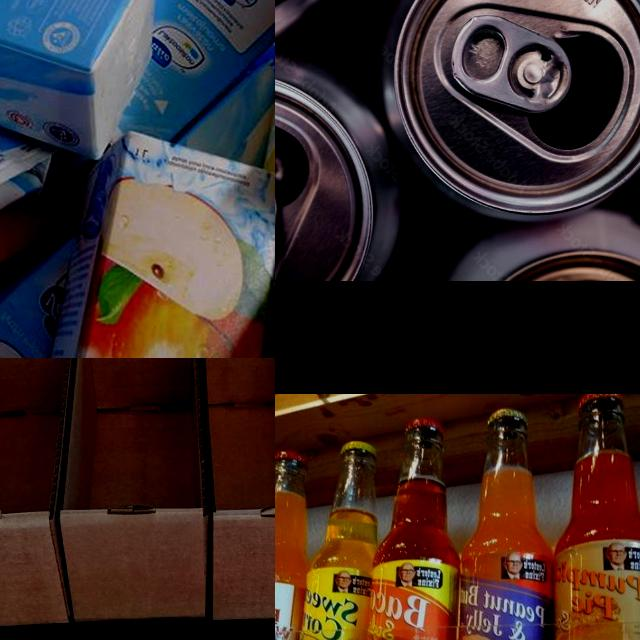aba de lata: (448, 10, 572, 111)
caixinha: (14, 127, 275, 358), (0, 0, 157, 160)
garrafa de vidro: (455, 409, 552, 640), (360, 418, 460, 640), (554, 394, 640, 640), (289, 442, 380, 640), (275, 451, 306, 640)
lata: (389, 0, 640, 218)
papelão: (58, 358, 210, 623), (197, 358, 275, 618), (0, 358, 73, 633)
